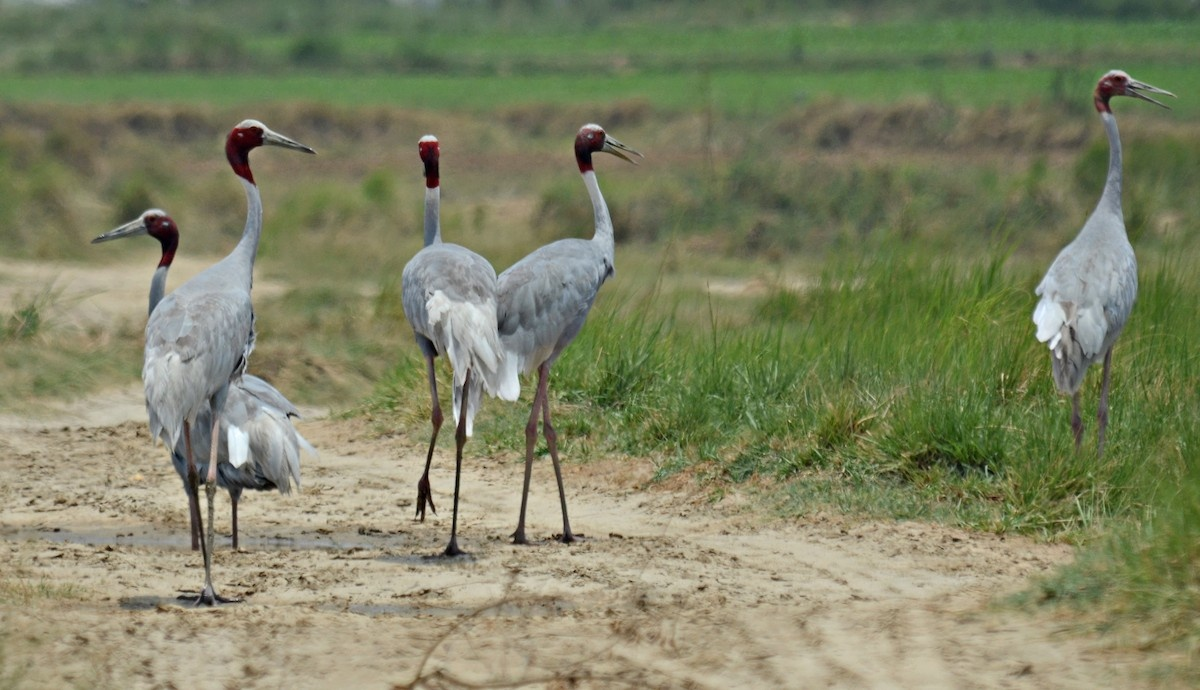crane: (138, 116, 327, 604), (491, 115, 648, 551), (1026, 58, 1181, 451), (403, 120, 500, 564), (91, 209, 196, 288)
